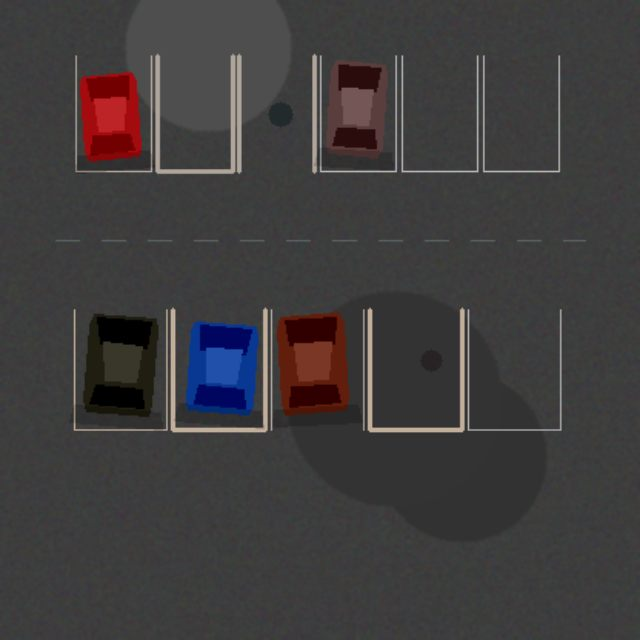space-empty: (369, 309, 462, 429), (468, 309, 560, 429), (238, 55, 314, 171), (157, 55, 232, 171), (402, 55, 477, 171), (483, 55, 558, 171)
space-occupied: (172, 309, 265, 429), (74, 309, 166, 429), (271, 309, 363, 429), (75, 55, 151, 171), (320, 55, 395, 171)
